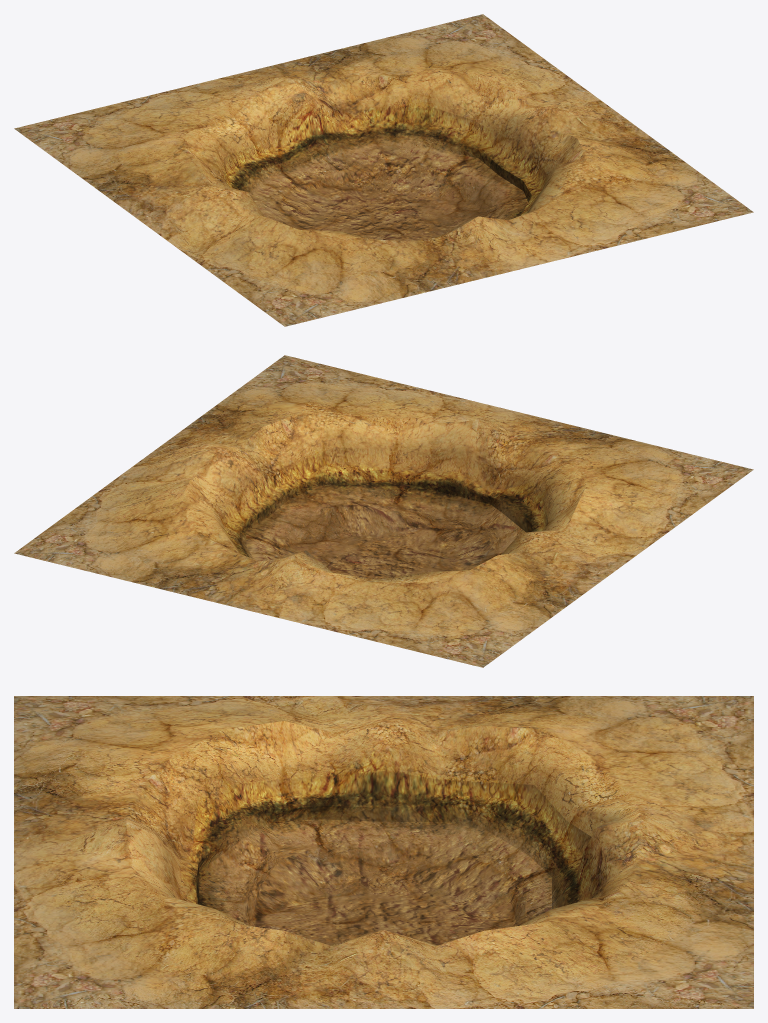
File: Crater_2.fbx
3 renders of one model, top to bottom at view 1: azimuth 30°, elevation 25°; view 2: azimuth 150°, elevation 25°; view 3: azimuth 270°, elevation 25°, orthographic. The views are drawn at different scales.
Parts seen in each view (by area): view 1: Crater_2; view 2: Crater_2; view 3: Crater_2.
Part boxes in pixels (<box>): Crater_2: <box>14,14,753,326</box>; Crater_2: <box>14,355,753,667</box>; Crater_2: <box>14,696,753,1008</box>.
Size of the model in its own units: 1201 by 182 by 1201.
